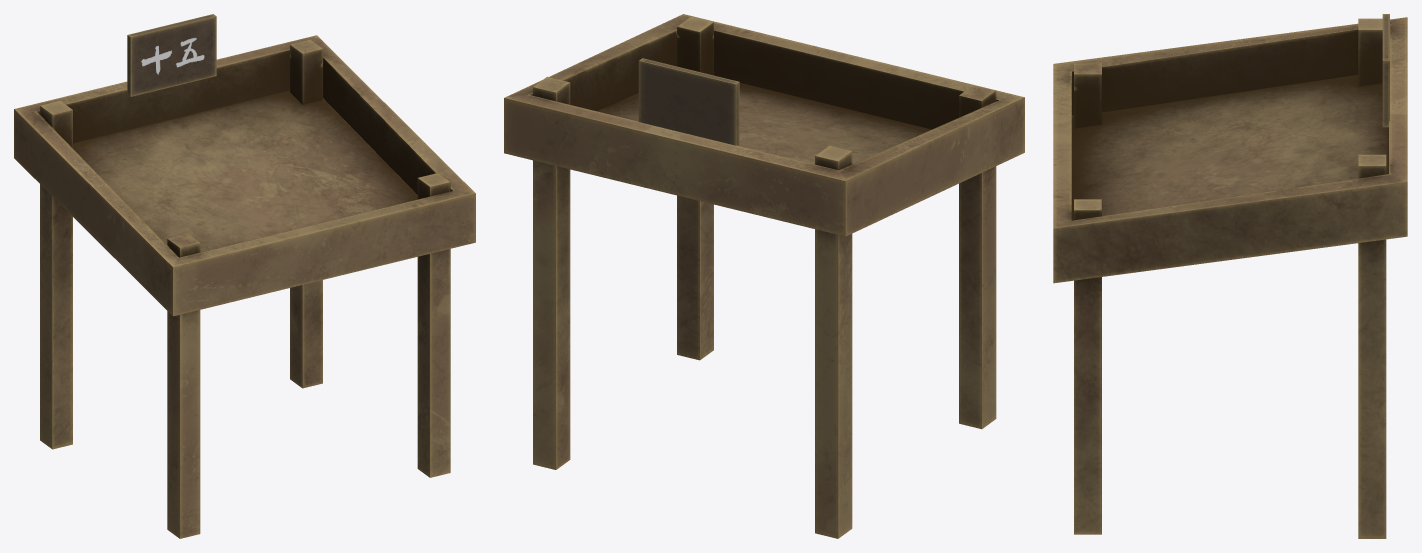
File: SM_markettable_empty_02.fbx
The picture shows the model from 3 angles, left to right: view 1: azimuth 30°, elevation 25°; view 2: azimuth 150°, elevation 25°; view 3: azimuth 270°, elevation 25°; orthographic projection. The views are drawn at different scales.
Visible parts, largest first — view 1: Box441; view 2: Box441; view 3: Box441.
Boxes of the visible parts, <box> form: Box441: <box>14,14,475,538</box>; Box441: <box>504,14,1024,538</box>; Box441: <box>1053,14,1407,538</box>.
Bounding box in the file's own units: 38.69 × 46.69 × 35.18.
